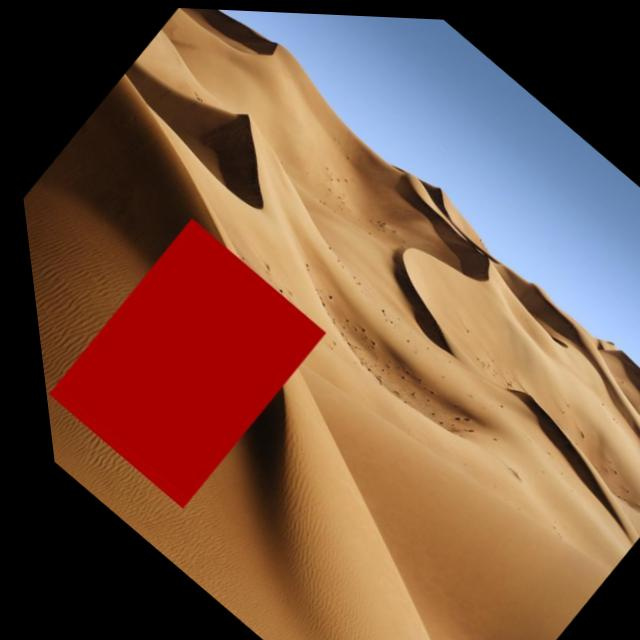RedSquare: (19, 202, 345, 521)
